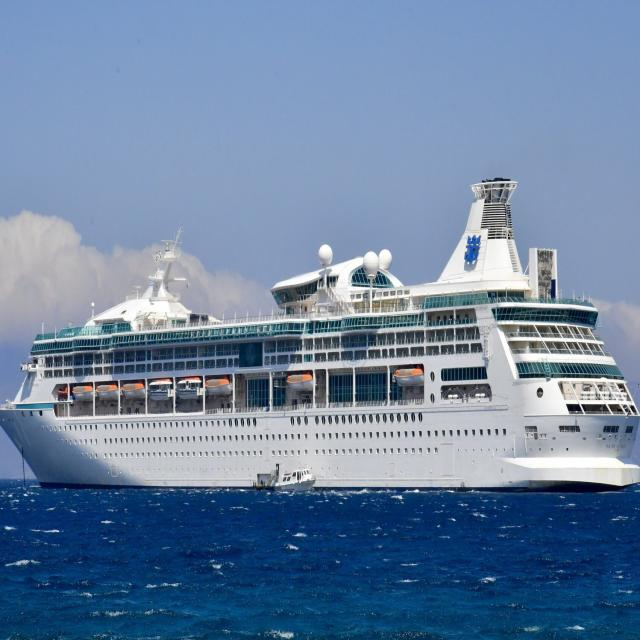houseboat: (268, 456, 315, 490)
passenger ship: (0, 165, 640, 491)
